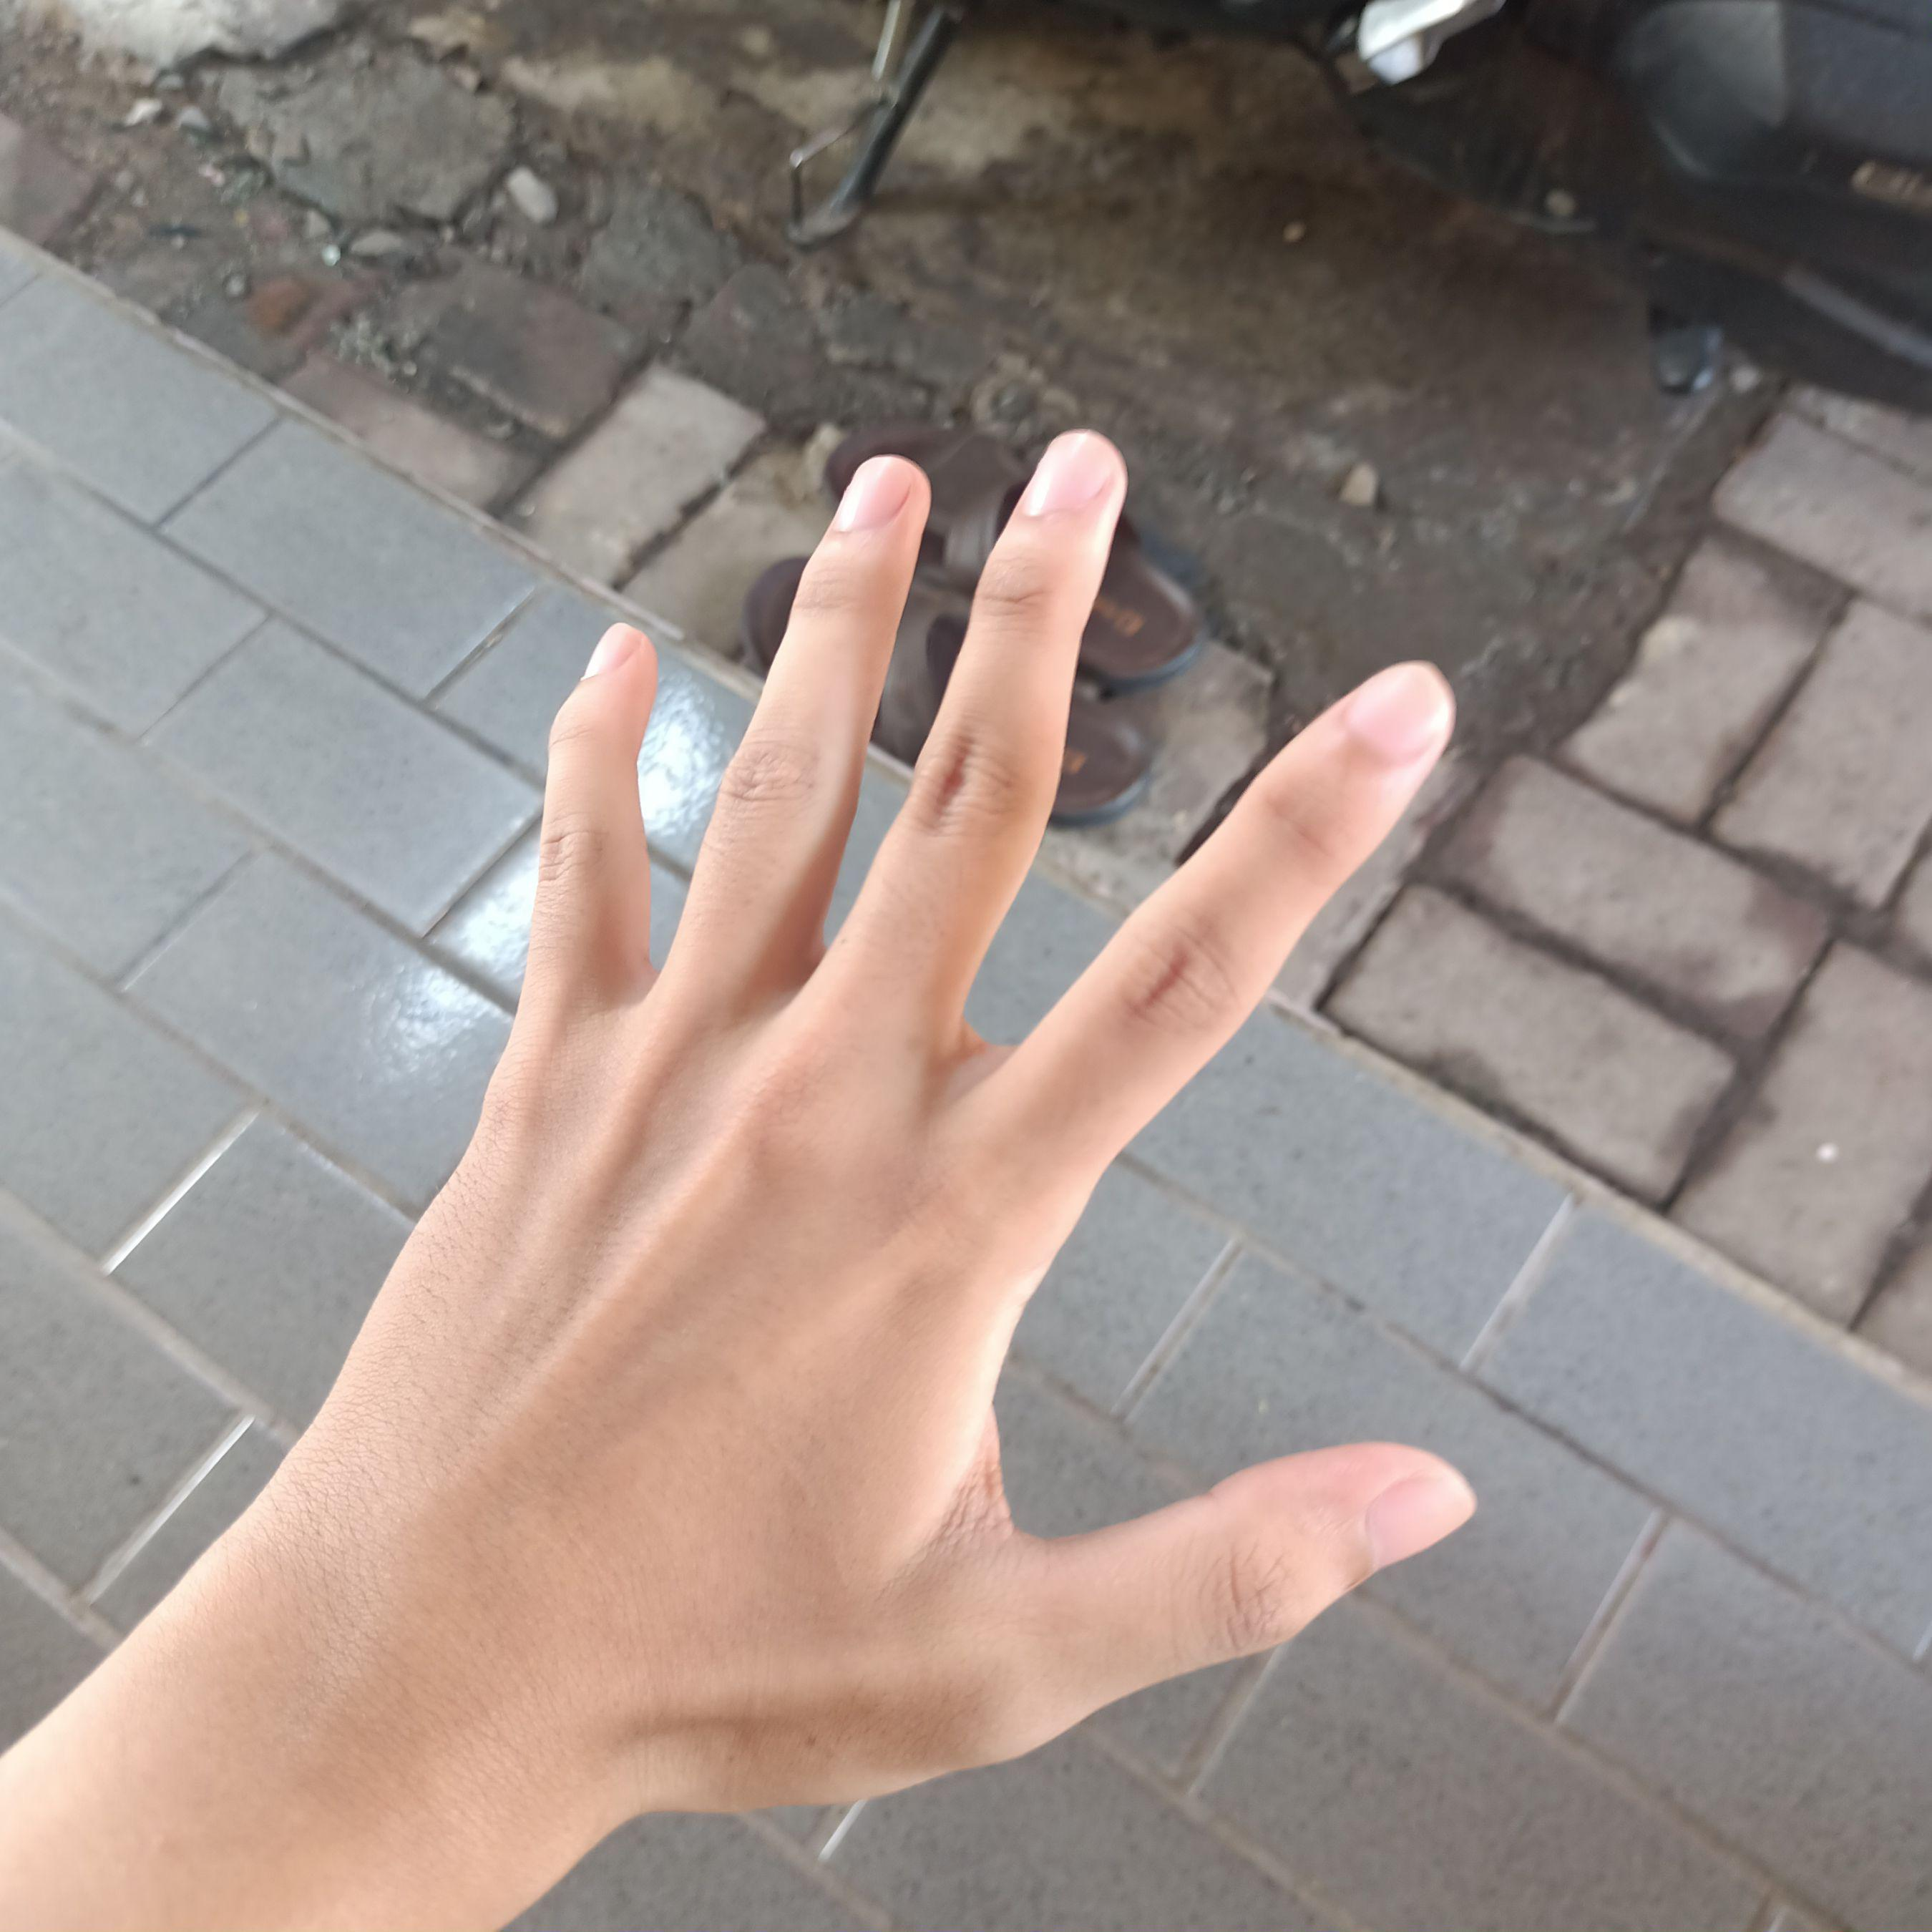paper: (211, 412, 1495, 1831)
